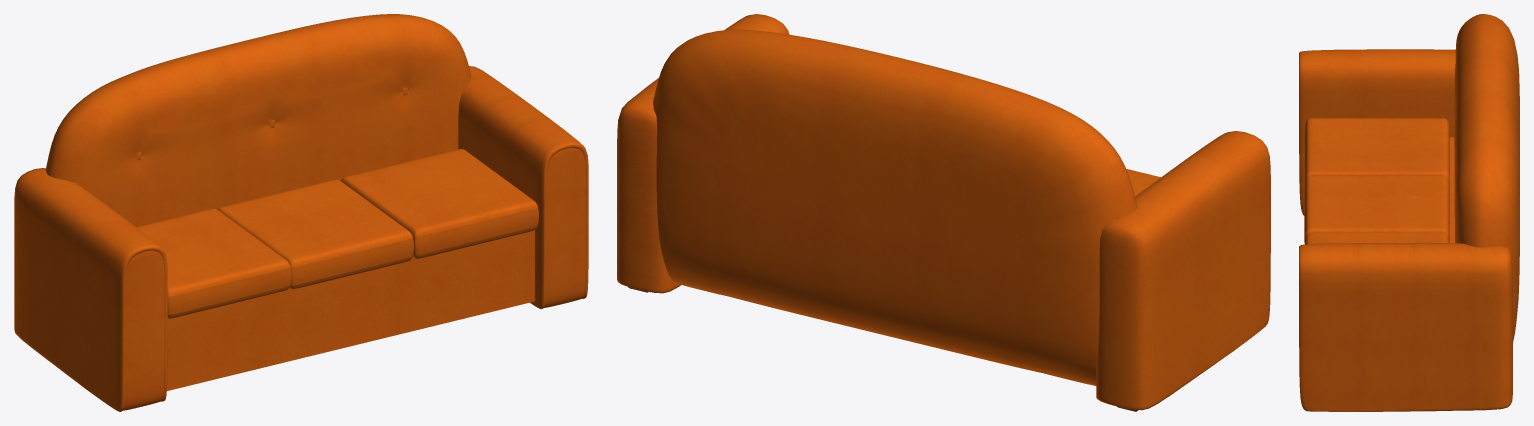
File: sofa.obj
3 views of the same model, side by side, from view 1: azimuth 30°, elevation 25°; view 2: azimuth 150°, elevation 25°; view 3: azimuth 270°, elevation 25° (orthographic). The views are drawn at different scales.
Parts seen in each view (by area): view 1: Couch_Back_Couch_main_update, ChairArmLt_ChairArm.003, couch_main, ChairArmRt_ChairArm.001, cushionRt_cushionRt.002, Mid_cushion_cushionRt.001, cushionLt_cushionRt; view 2: Couch_Back_Couch_main_update, ChairArmLt_ChairArm.003, ChairArmRt_ChairArm.001; view 3: ChairArmRt_ChairArm.001, Couch_Back_Couch_main_update, ChairArmLt_ChairArm.003, Mid_cushion_cushionRt.001, cushionLt_cushionRt, cushionRt_cushionRt.002, couch_main.
Part boxes in pixels (x1=…): Couch_Back_Couch_main_update: x1=45, y1=14, x2=471, y2=226; ChairArmLt_ChairArm.003: x1=14, y1=168, x2=167, y2=411; couch_main: x1=167, y1=230, x2=535, y2=390; ChairArmRt_ChairArm.001: x1=458, y1=66, x2=588, y2=309; cushionRt_cushionRt.002: x1=341, y1=149, x2=538, y2=258; Mid_cushion_cushionRt.001: x1=217, y1=179, x2=413, y2=289; cushionLt_cushionRt: x1=136, y1=208, x2=291, y2=318; Couch_Back_Couch_main_update: x1=653, y1=29, x2=1137, y2=385; ChairArmLt_ChairArm.003: x1=1096, y1=131, x2=1270, y2=410; ChairArmRt_ChairArm.001: x1=617, y1=14, x2=789, y2=293; ChairArmRt_ChairArm.001: x1=1299, y1=243, x2=1512, y2=411; Couch_Back_Couch_main_update: x1=1454, y1=14, x2=1519, y2=341; ChairArmLt_ChairArm.003: x1=1299, y1=49, x2=1455, y2=215; Mid_cushion_cushionRt.001: x1=1304, y1=175, x2=1449, y2=242; cushionLt_cushionRt: x1=1304, y1=118, x2=1449, y2=188; cushionRt_cushionRt.002: x1=1304, y1=232, x2=1449, y2=244; couch_main: x1=1449, y1=137, x2=1454, y2=243.
Bounding box in the file's own units: 60.32 × 30.32 × 26.05.
Materials: 4 (3 with a texture image).
